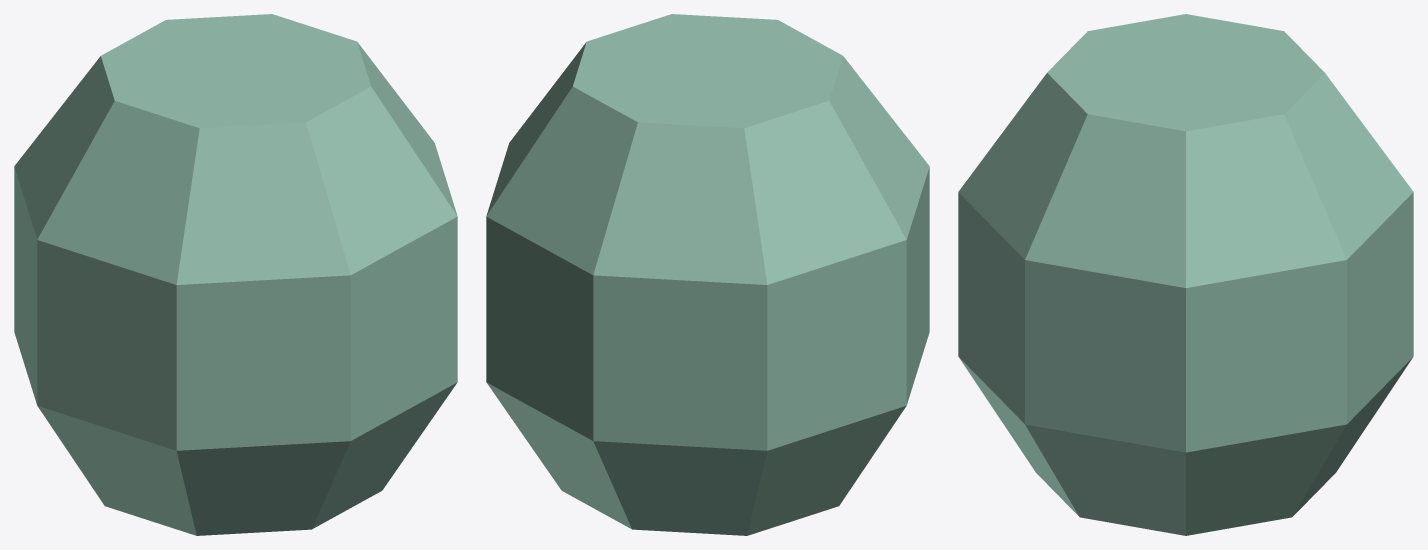
Rendered from naturePack_015.fbx.
The picture shows the model from 3 angles, left to right: view 1: azimuth 30°, elevation 25°; view 2: azimuth 150°, elevation 25°; view 3: azimuth 270°, elevation 25°; orthographic projection.
Visible parts, largest first — view 1: naturePack_015; view 2: naturePack_015; view 3: naturePack_015.
Boxes of the visible parts, box(x1,y1,x2,y2) form: naturePack_015: box(14, 14, 457, 535); naturePack_015: box(486, 14, 929, 535); naturePack_015: box(958, 14, 1413, 535).
Bounding box in the file's own units: 128 × 124 × 128.
